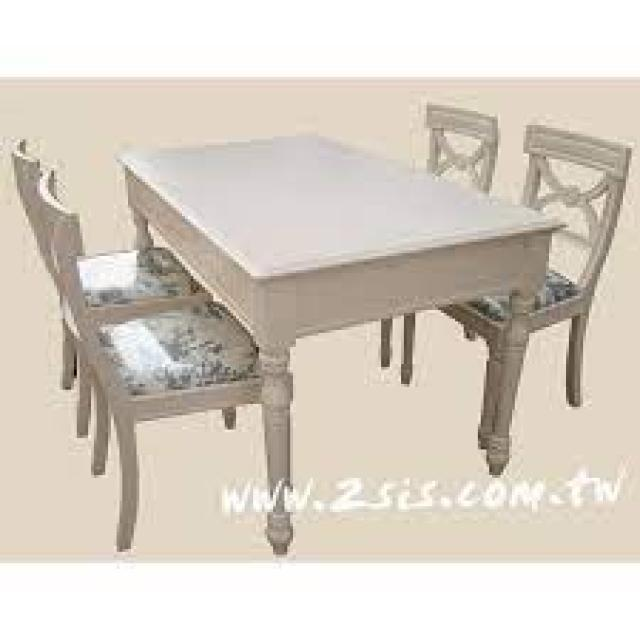table: (6, 94, 630, 556)
